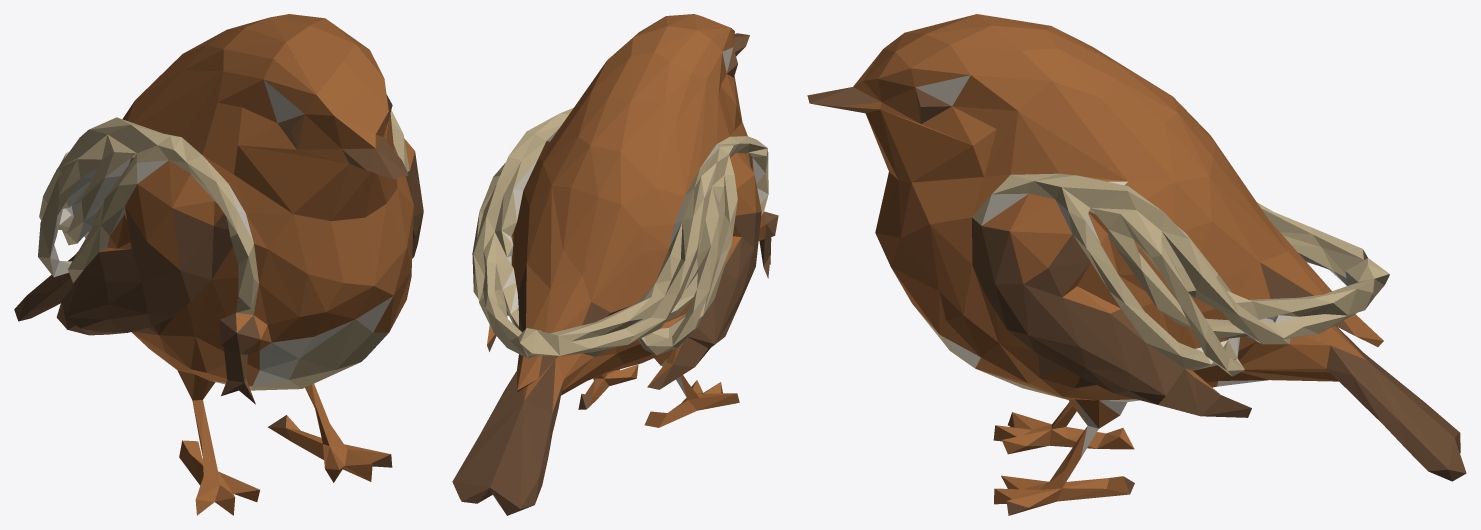
3 views of the same model, side by side, from view 1: azimuth 30°, elevation 25°; view 2: azimuth 150°, elevation 25°; view 3: azimuth 270°, elevation 25° (orthographic). The views are drawn at different scales.
Bounding box in the file's own units: 0.5181 × 0.7537 × 1.
